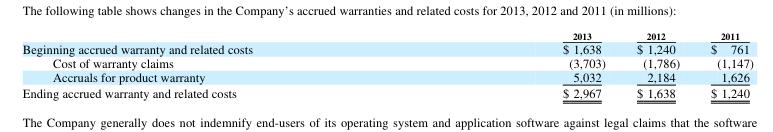table: (21, 28, 753, 100)
table column: (21, 28, 406, 100), (406, 28, 620, 100), (620, 28, 694, 100), (694, 28, 753, 100)
table column header: (21, 28, 753, 40)
table row: (21, 84, 753, 100), (21, 40, 753, 55), (21, 69, 753, 84), (21, 55, 753, 69), (21, 28, 753, 40)
